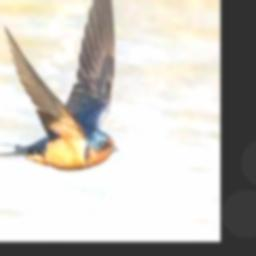Swallow: (0, 0, 119, 169)
